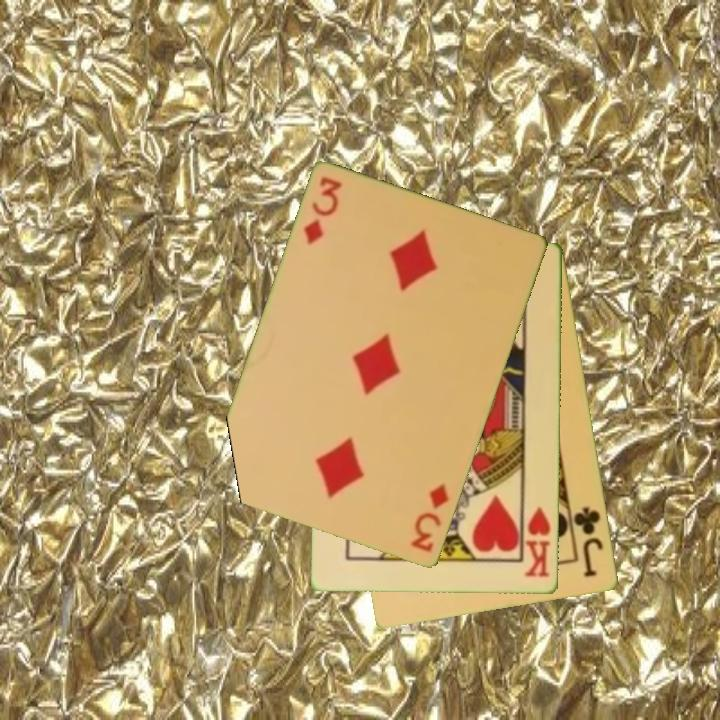3d: (408, 479, 452, 556), (300, 173, 345, 248)
Jc: (570, 504, 607, 580)
Kh: (520, 500, 554, 580)
